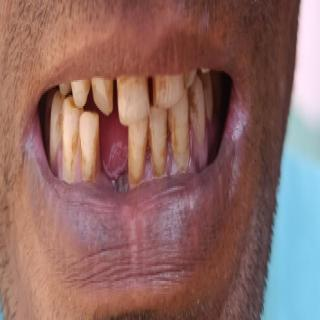stains: (168, 98, 195, 188), (144, 98, 173, 180), (128, 102, 148, 193), (189, 88, 211, 163), (78, 116, 100, 188), (61, 100, 79, 186), (119, 64, 150, 109), (157, 60, 184, 102), (51, 98, 64, 166), (78, 70, 94, 114), (98, 77, 114, 114)
